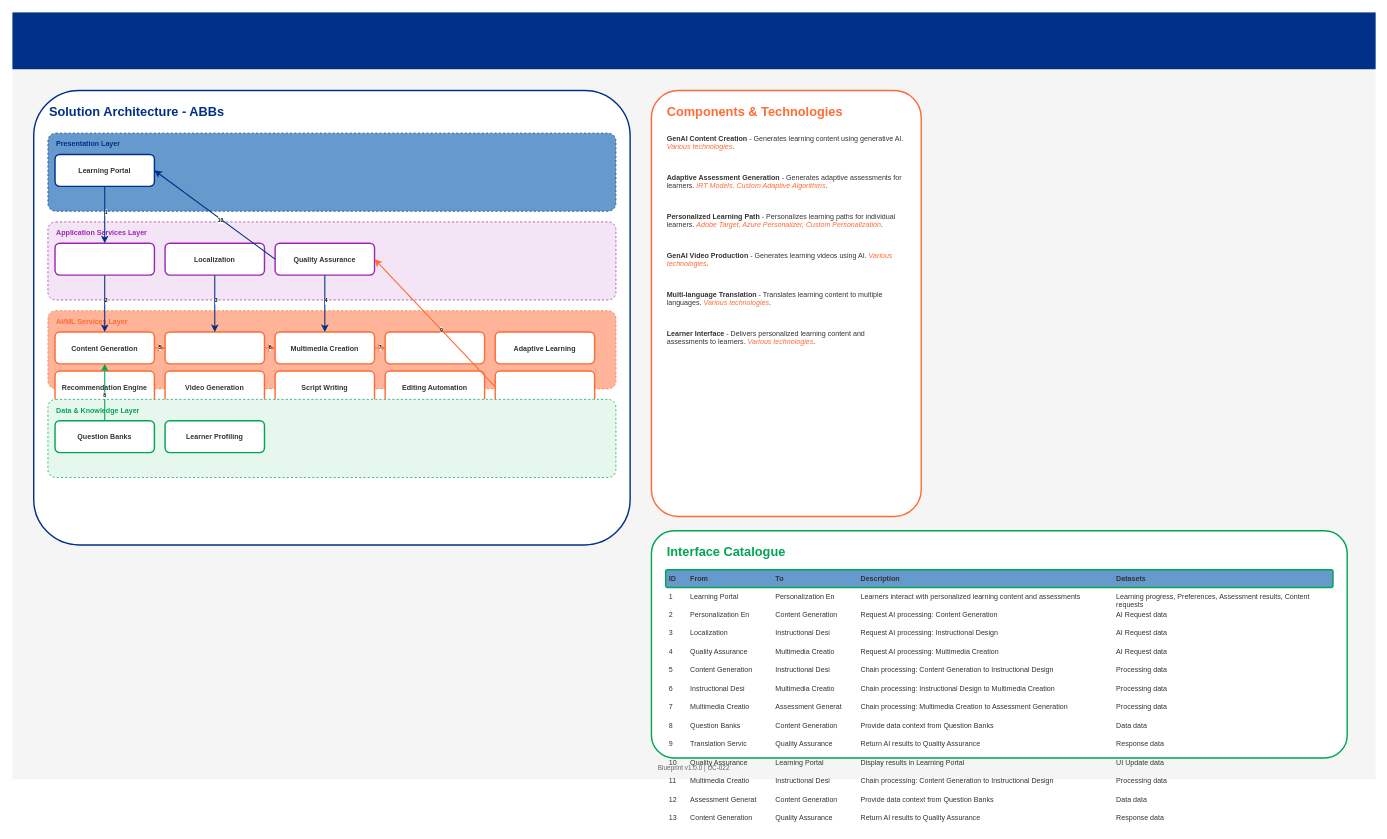
Some shapes in this 1387 by 839 pixel diagram are drawn without their labels. The shapes that lost their labels are listed below. From the top down, each one's centre as x and y in pixels, then its label:
At point (693, 40): "Use Case Blueprint: UC-022 Learning content prouction".
At point (104, 258): "Personalization Engine".
At point (214, 347): "Instructional Design".
At point (434, 347): "Assessment Generation".
At point (544, 386): "Translation Service".
